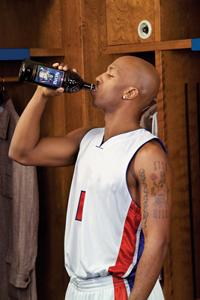person: (8, 52, 174, 300)
